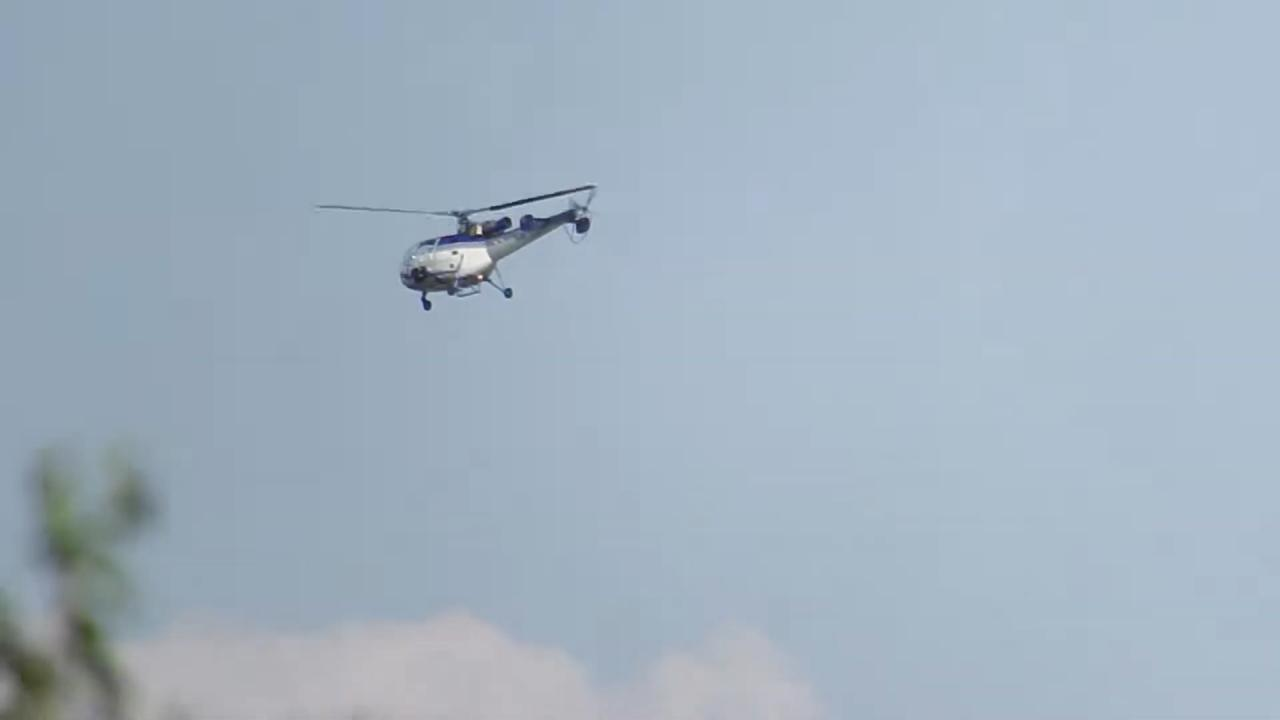Helicopter: (308, 172, 610, 322)
